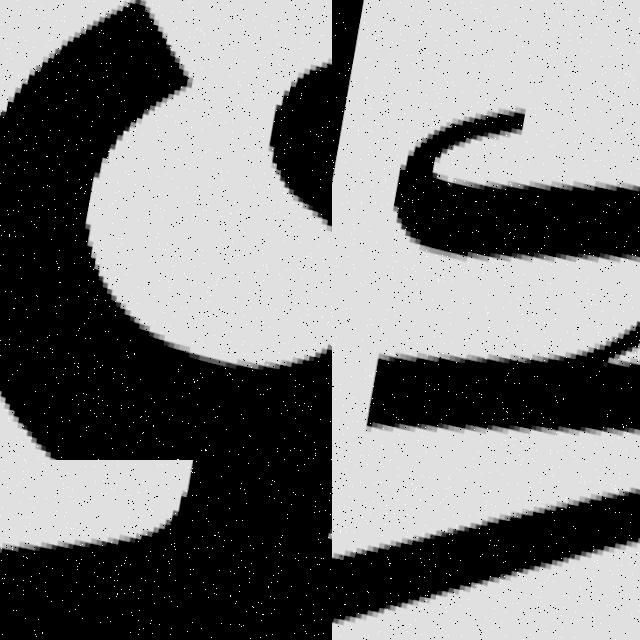7: (332, 460, 640, 640)
C: (0, 0, 332, 460)
H: (393, 109, 640, 248), (359, 312, 640, 427)
R: (0, 460, 332, 640)
